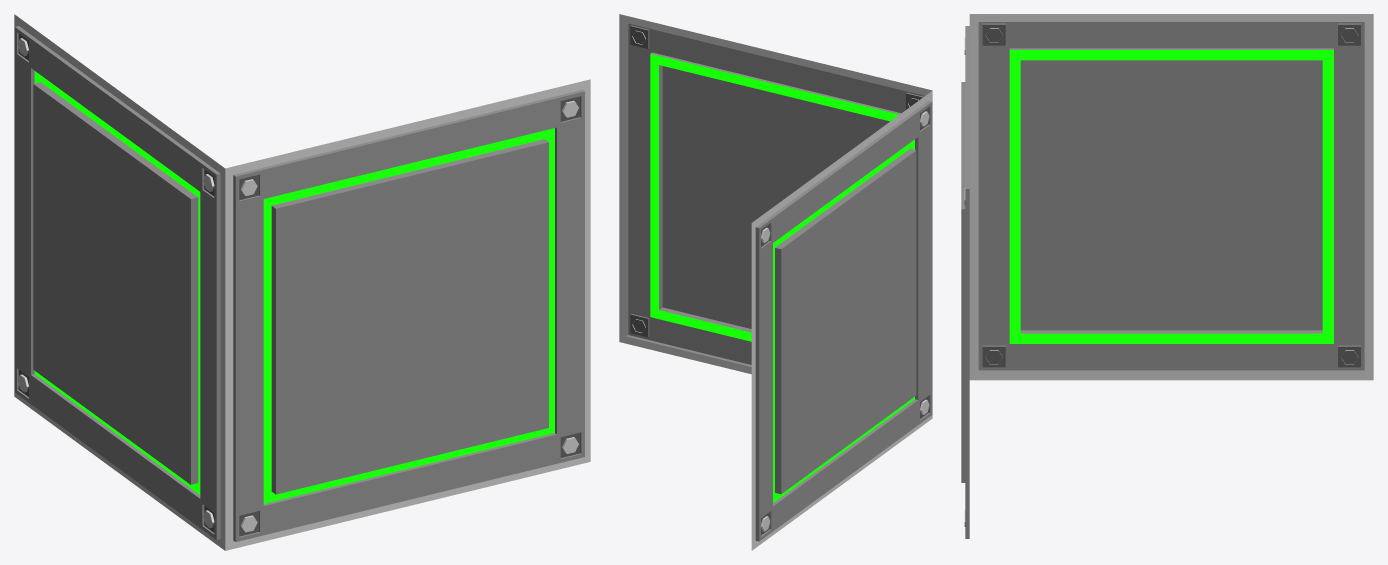
Rendered from Wall_08_Corner.FBX.
3 views of the same model, side by side, from view 1: azimuth 30°, elevation 25°; view 2: azimuth 150°, elevation 25°; view 3: azimuth 270°, elevation 25° (orthographic). The views are drawn at different scales.
Visible parts, largest first — view 1: Wall_08_Corner_LOD0; view 2: Wall_08_Corner_LOD0; view 3: Wall_08_Corner_LOD0.
Boxes of the visible parts, x1=… form: Wall_08_Corner_LOD0: x1=14, y1=14, x2=590, y2=550; Wall_08_Corner_LOD0: x1=619, y1=14, x2=932, y2=550; Wall_08_Corner_LOD0: x1=961, y1=14, x2=1373, y2=538.
Size of what is drawn, in the model's own units: 184 by 180 by 184.
